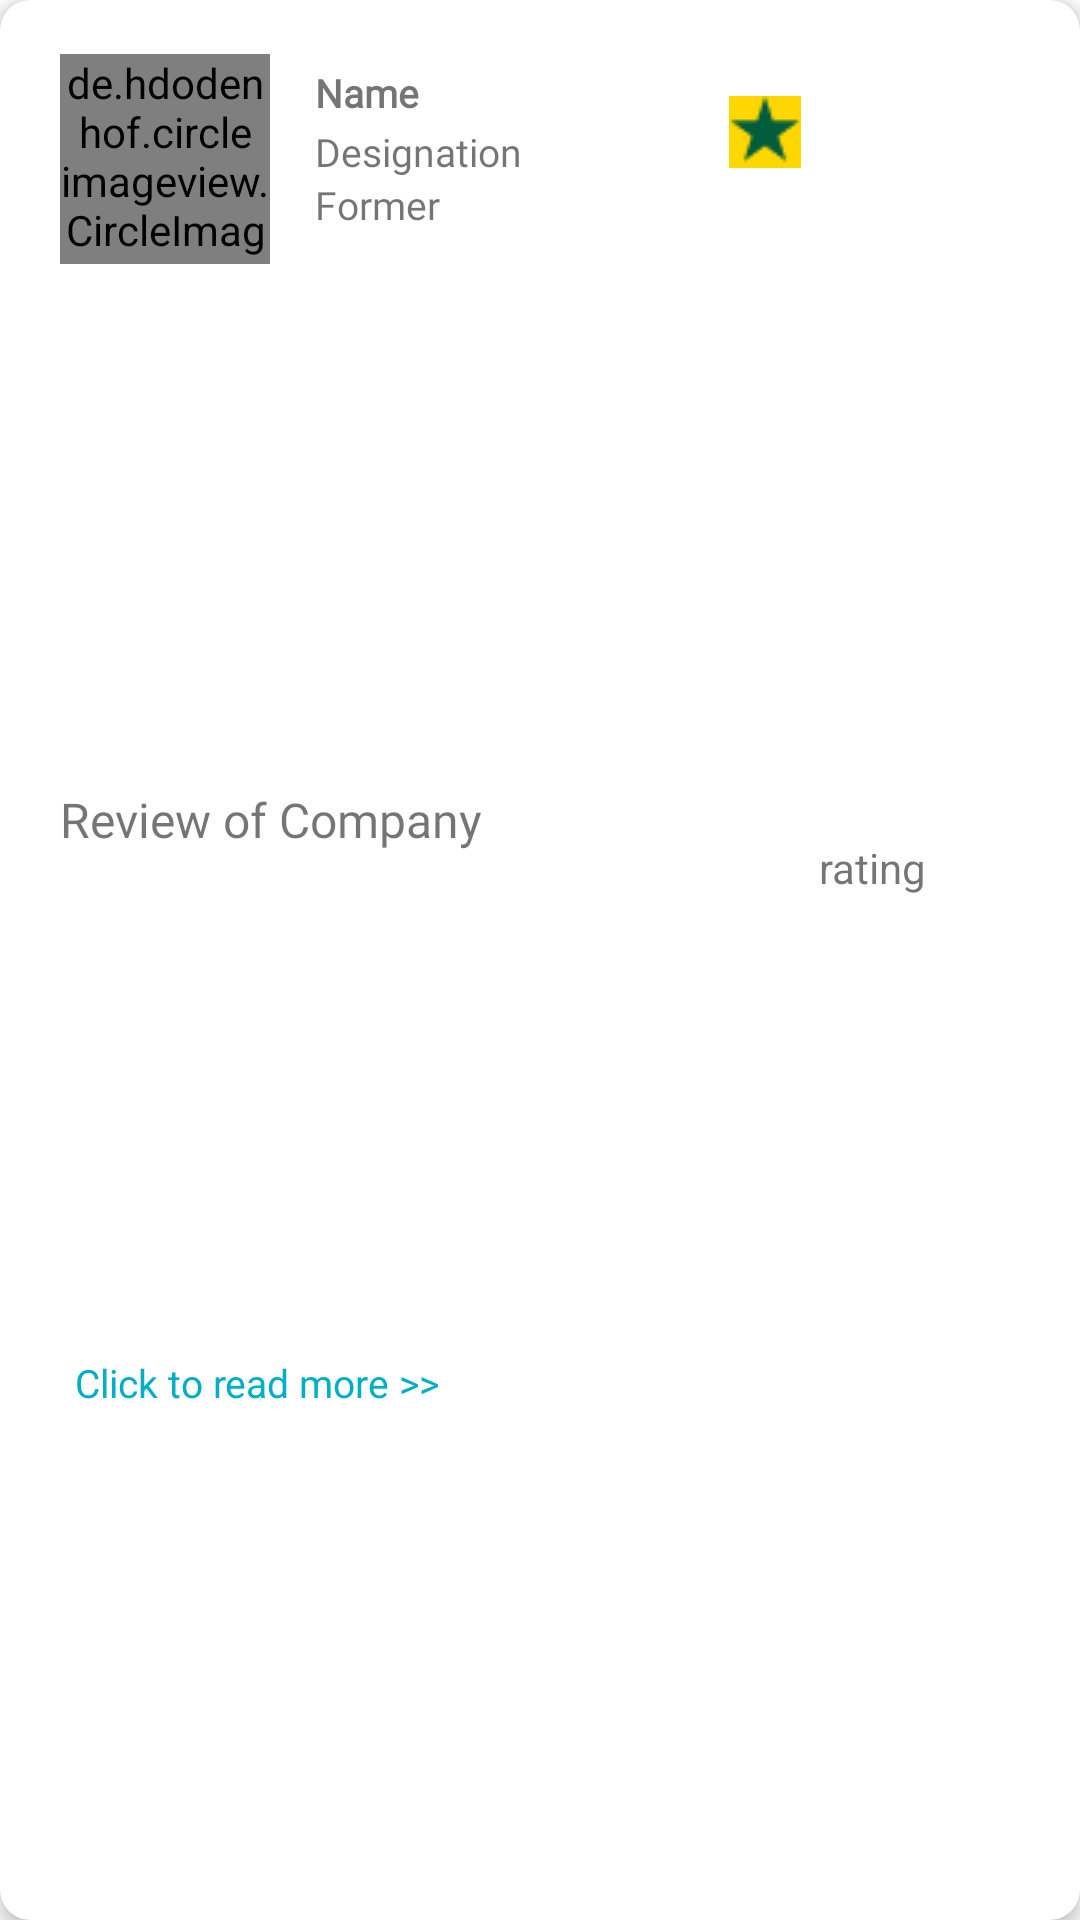

Screen size 1080px x 1920px. Icon name, then its box in pixels as (x1, y1, x2, y2):
star: (729, 96, 801, 168)
